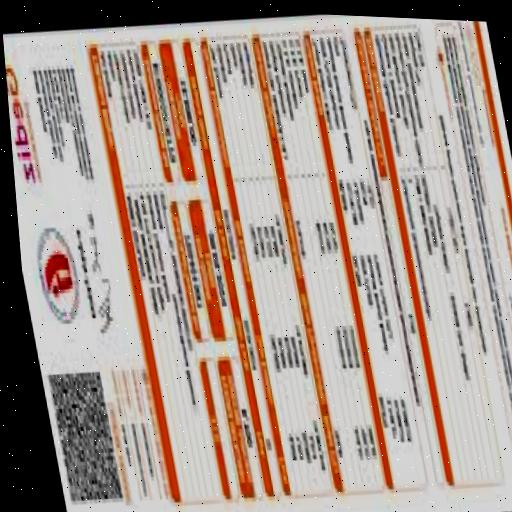electricity-bill: (3, 19, 512, 507)
